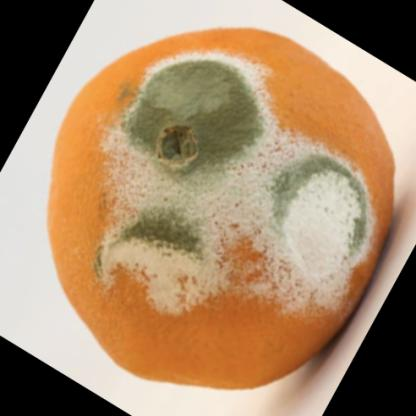rotten: (47, 26, 392, 388)
